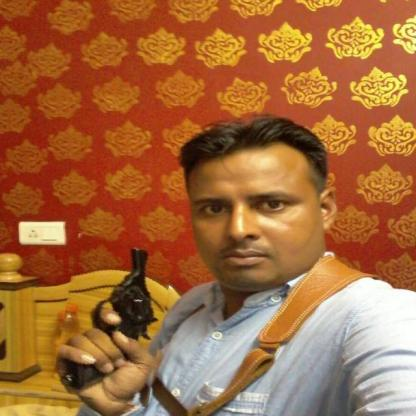handgun: (57, 237, 168, 404)
